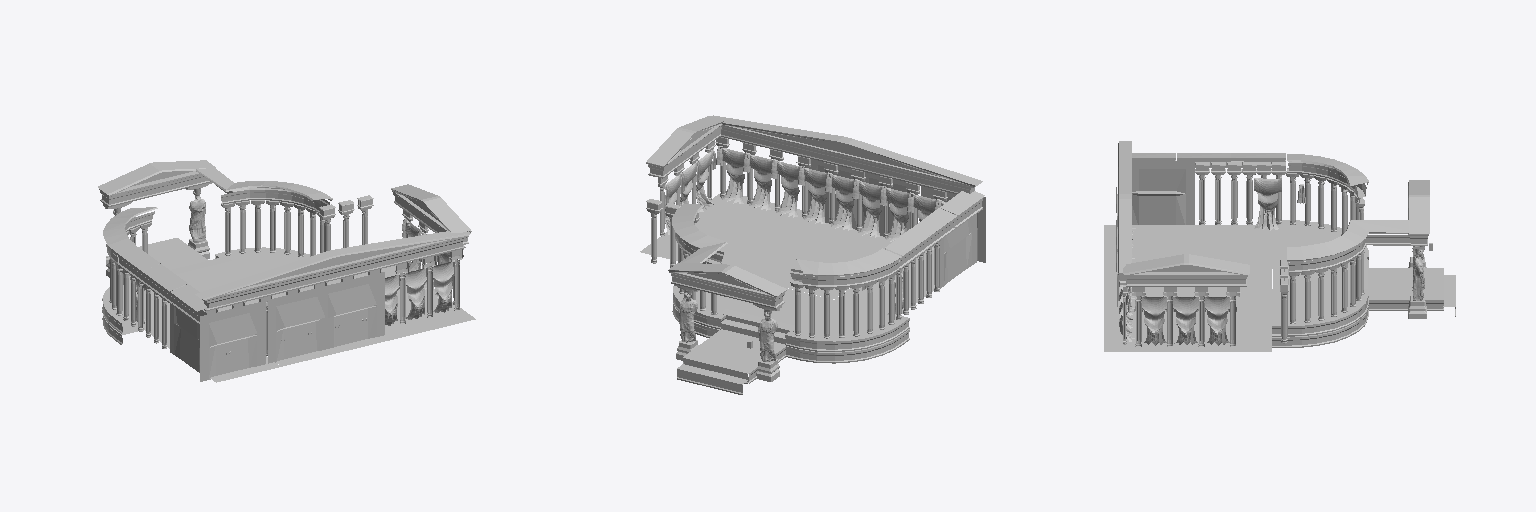
Rendered from _OH_Tempel.obj.
3 views of the same model, side by side, from view 1: azimuth 30°, elevation 25°; view 2: azimuth 150°, elevation 25°; view 3: azimuth 270°, elevation 25° (orthographic).
Visible parts, largest first — view 1: polySurface53, polySurface49 polySurface62, MASH1_ReproMesh2, polySurface49 polySurface63, polySurface49 polySurface64, polySurface3, MASH_ReproMesh4, polySurface18, polySurface54, polySurface49 polySurface56, polySurface19, polySurface59 Roofface:polySurface3 (+11 smaller); view 2: MASH1_ReproMesh2, polySurface53, polySurface15, polySurface3, polySurface59 Roofface:polySurface3, MASH_ReproMesh3, polySurface11, polySurface54, polySurface50, polySurface33, polySurface17, polySurface52 (+20 smaller); view 3: polySurface11, polySurface49 polySurface56, polySurface54, polySurface18, polySurface19, polySurface32, MASH_ReproMesh4, polySurface48, polySurface17, MASH_ReproMesh3, polySurface53, polySurface51 (+14 smaller).
Boxes of the visible parts, x1=… form: polySurface53: x1=195, y1=231, x2=470, y2=310; polySurface49 polySurface62: x1=200, y1=301, x2=265, y2=381; MASH1_ReproMesh2: x1=204, y1=249, x2=463, y2=355; polySurface49 polySurface63: x1=268, y1=284, x2=333, y2=363; polySurface49 polySurface64: x1=320, y1=272, x2=384, y2=350; polySurface3: x1=98, y1=160, x2=215, y2=206; MASH_ReproMesh4: x1=221, y1=200, x2=324, y2=256; polySurface18: x1=196, y1=168, x2=332, y2=212; polySurface54: x1=391, y1=184, x2=471, y2=244; polySurface49 polySurface56: x1=170, y1=290, x2=206, y2=372; polySurface19: x1=215, y1=247, x2=309, y2=276; polySurface59 Roofface:polySurface3: x1=103, y1=207, x2=157, y2=263; MASH1_ReproMesh2: x1=715, y1=137, x2=953, y2=249; polySurface53: x1=712, y1=115, x2=982, y2=193; polySurface15: x1=785, y1=300, x2=909, y2=351; polySurface3: x1=668, y1=263, x2=786, y2=308; polySurface59 Roofface:polySurface3: x1=790, y1=248, x2=900, y2=287; MASH_ReproMesh3: x1=790, y1=272, x2=896, y2=338; polySurface11: x1=658, y1=141, x2=716, y2=236; polySurface54: x1=646, y1=116, x2=724, y2=178; polySurface50: x1=747, y1=209, x2=843, y2=252; polySurface33: x1=721, y1=237, x2=810, y2=281; polySurface17: x1=684, y1=329, x2=785, y2=372; polySurface52: x1=695, y1=194, x2=780, y2=236; polySurface11: x1=1131, y1=287, x2=1240, y2=346; polySurface49 polySurface56: x1=1132, y1=161, x2=1194, y2=224; polySurface54: x1=1123, y1=254, x2=1249, y2=286; polySurface18: x1=1287, y1=220, x2=1410, y2=272; polySurface19: x1=1272, y1=289, x2=1368, y2=336; polySurface32: x1=1188, y1=225, x2=1271, y2=256; MASH_ReproMesh4: x1=1289, y1=251, x2=1364, y2=323; polySurface48: x1=1104, y1=225, x2=1188, y2=256; polySurface17: x1=1368, y1=268, x2=1443, y2=299; MASH_ReproMesh3: x1=1286, y1=171, x2=1364, y2=252; polySurface53: x1=1118, y1=141, x2=1131, y2=284; polySurface51: x1=1188, y1=320, x2=1271, y2=351.
Bounding box in the file's own units: 81.04 × 33.69 × 89.22.